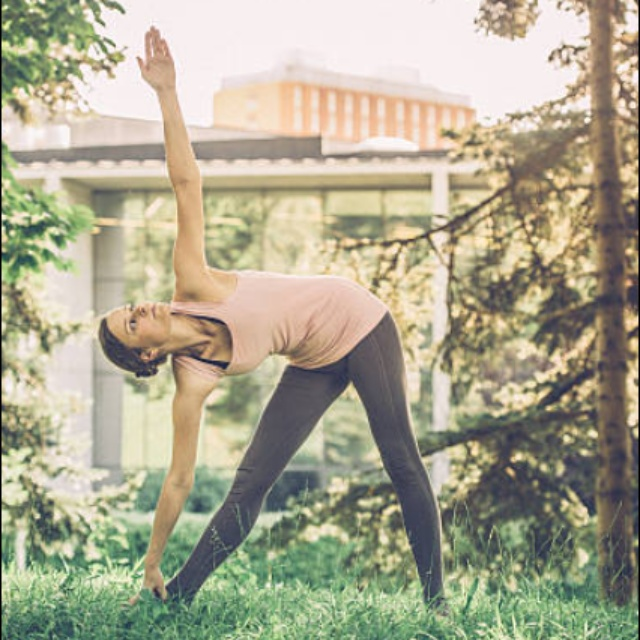Triangle_Pose: (95, 18, 461, 624)
